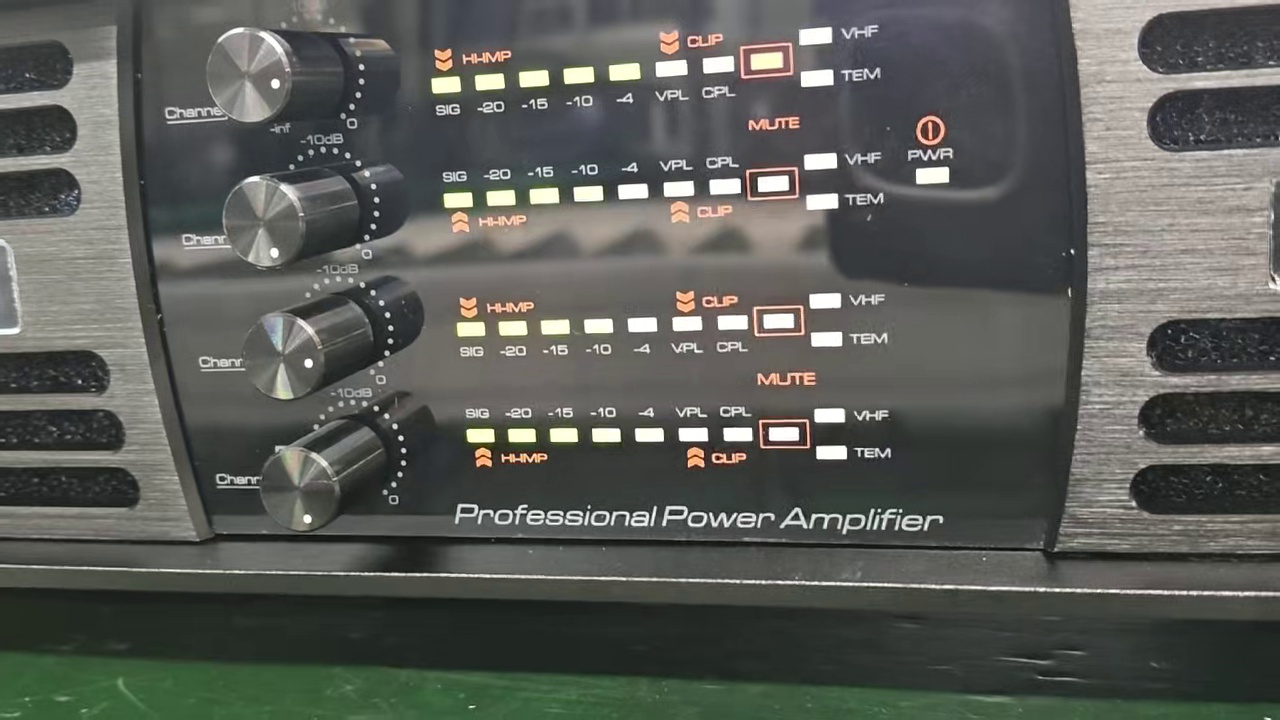FP_CPL: (698, 50, 741, 109), (705, 152, 746, 203), (712, 311, 752, 359), (717, 401, 756, 449)
FP_PWR: (902, 143, 958, 189)
FP_PWR_area: (900, 109, 960, 198)
FP_SIG_area: (424, 17, 890, 119), (435, 137, 887, 237), (449, 279, 899, 361), (460, 395, 899, 475)
FP_VPL: (652, 54, 692, 109), (655, 152, 697, 200), (668, 312, 708, 359), (672, 401, 711, 447)
